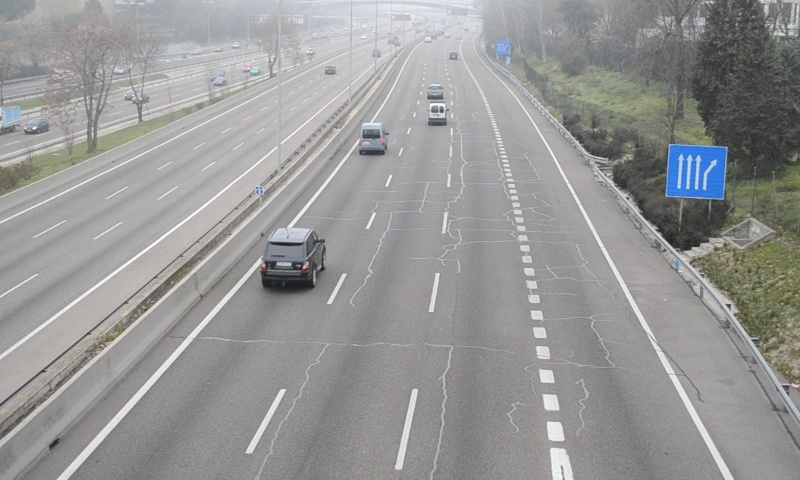car: (258, 227, 328, 282)
van: (360, 123, 387, 151), (427, 101, 448, 124)
